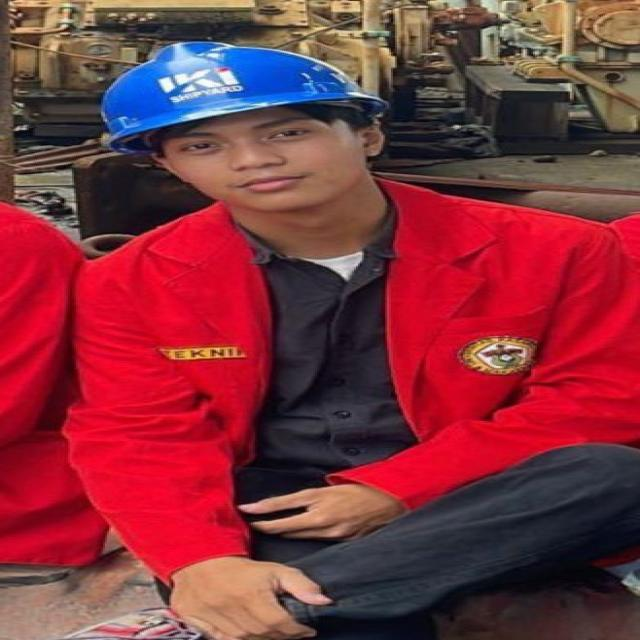safetyhelmet: (95, 39, 412, 197)
